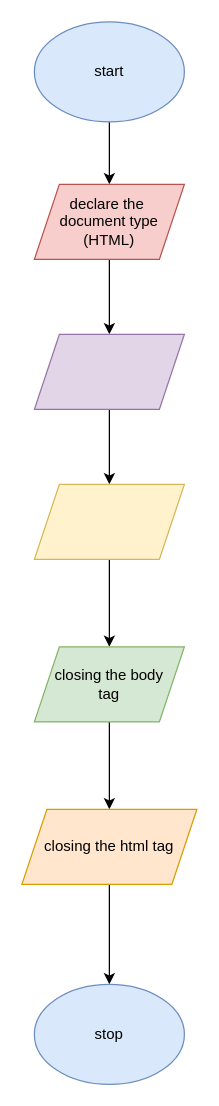
Some shapes in this 219 by 1106 pixel diagram are drawn without their labels. The box of each missing label's shape, as (x1, y1, x2, y2) in pixels:
read the body section: (33, 483, 184, 559)
read the head section: (33, 333, 184, 409)
